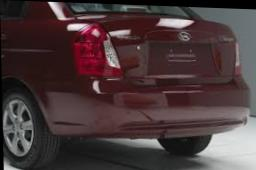Bumper: (126, 116, 179, 149)
